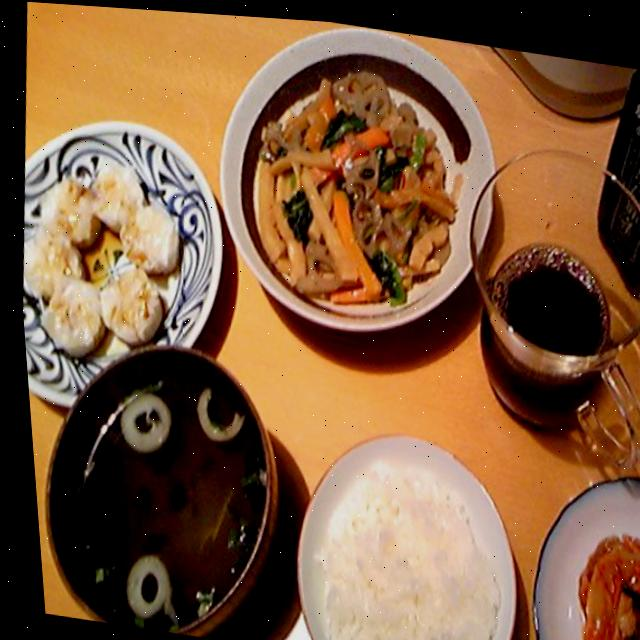带馅早点: (5, 85, 248, 451)
汤锅炖物: (17, 298, 290, 640)
米饭主食: (267, 399, 547, 640)
蔬菜料理: (189, 10, 516, 349)
